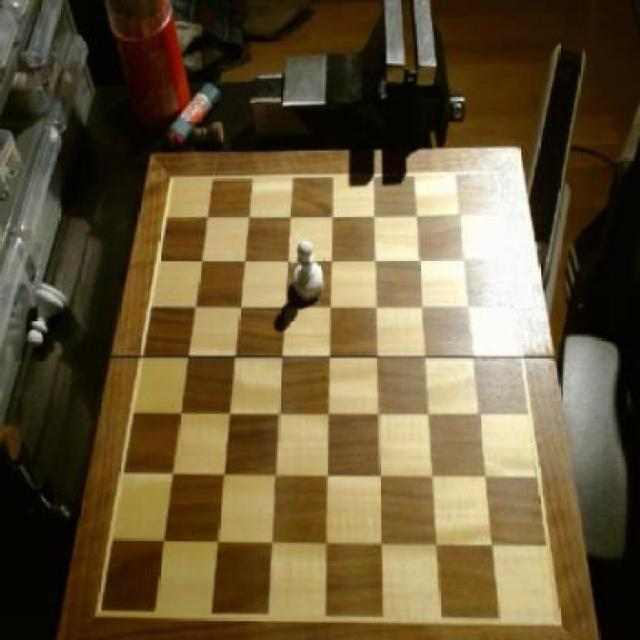white-knight: (290, 235, 326, 307)
